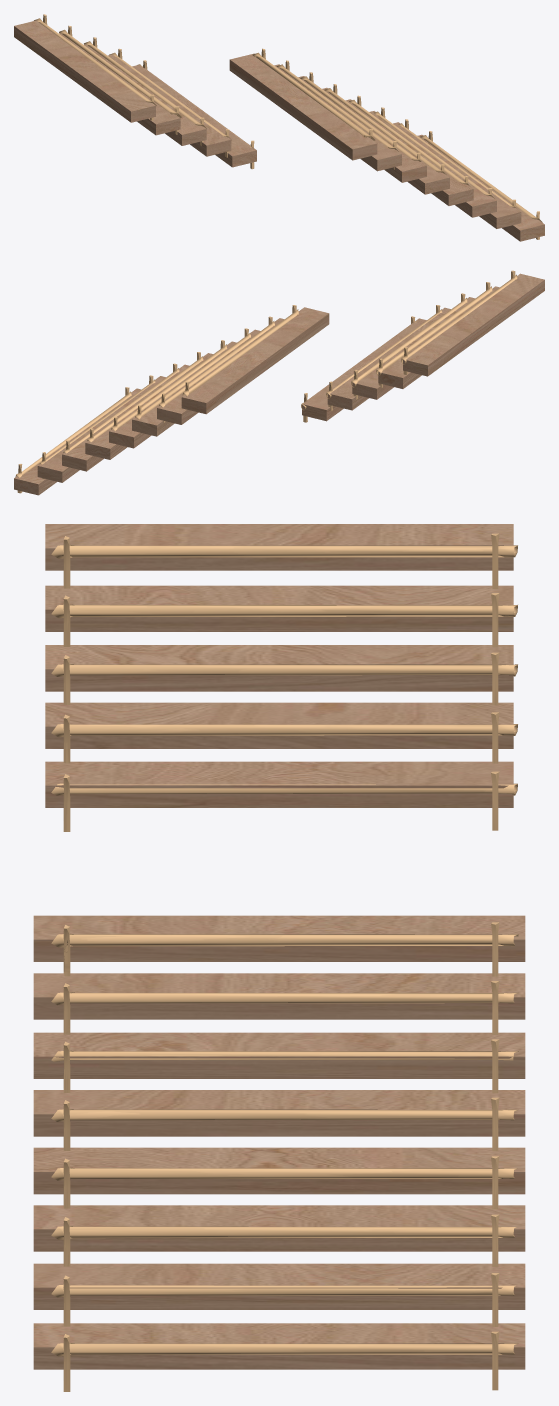
Rendered from Tangga.fbx.
The picture shows the model from 3 angles, top to bottom: view 1: azimuth 30°, elevation 25°; view 2: azimuth 150°, elevation 25°; view 3: azimuth 270°, elevation 25°; orthographic projection. The views are drawn at different scales.
Parts seen in each view (by area): view 1: Tangga (×2), Penyangga_Tanah.001, Penyangga_Tanah; view 2: Tangga (×2), Penyangga_Tanah.001, Penyangga_Tanah; view 3: Tangga (×2), Penyangga_Tanah.001, Penyangga_Tanah.
Boxes of the visible parts, x1,y1,x2,y2 form: Tangga (×2): [14, 20, 544, 241]; Penyangga_Tanah.001: [252, 48, 542, 239]; Penyangga_Tanah: [34, 14, 254, 169]; Tangga (×2): [14, 273, 544, 495]; Penyangga_Tanah.001: [15, 305, 298, 493]; Penyangga_Tanah: [301, 270, 517, 422]; Tangga (×2): [33, 524, 525, 1369]; Penyangga_Tanah.001: [51, 922, 518, 1391]; Penyangga_Tanah: [51, 533, 517, 831].
Size of the model in its own units: 945 by 524 by 486.
2 materials, 2 textured.
